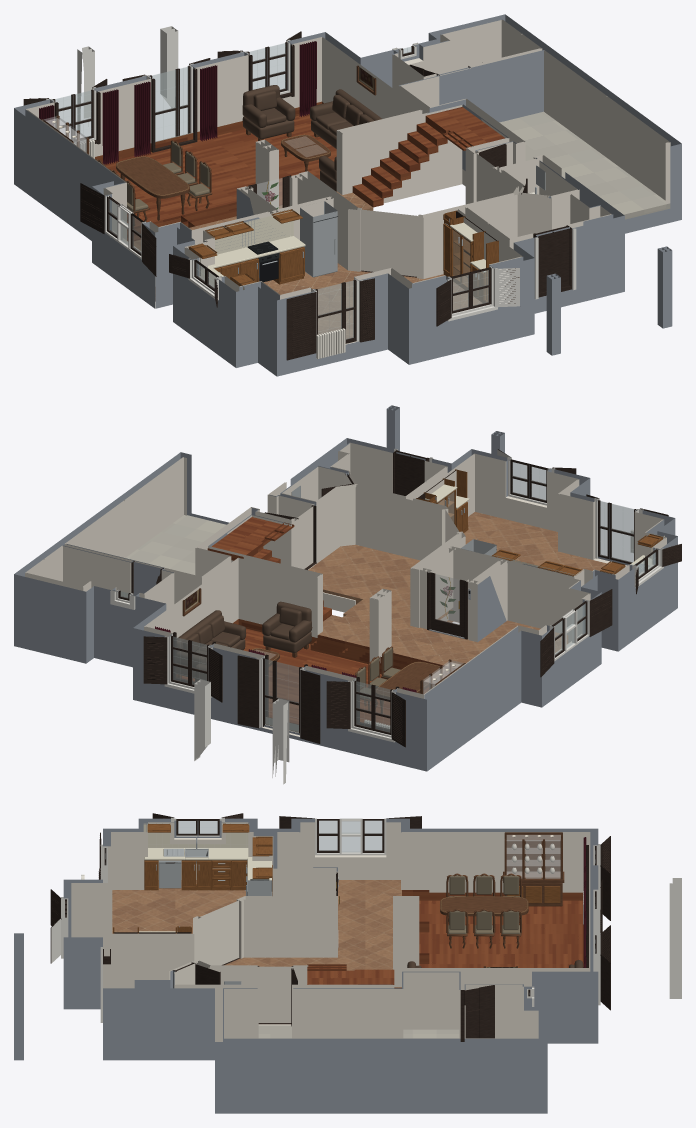
The model's file is floor-1.glb.
3 renders of one model, top to bottom at view 1: azimuth 30°, elevation 25°; view 2: azimuth 150°, elevation 25°; view 3: azimuth 270°, elevation 25°, orthographic. The views are drawn at different scales.
Parts seen in each view (by area): view 1: fixed | interior, fixed | stucco, fixed | wood_dark, fixed | wood_floor, fixed | glass, fixed | white_trim, fixed | stone_tile, fixed | wood_honey, fixed | burgundy_velvet, furniture | leather_brown, furniture | antique_wood, fixed | terra_floor (+6 smaller); view 2: fixed | interior, fixed | stucco, fixed | wood_dark, fixed | terra_floor, fixed | glass, fixed | wood_floor, fixed | white_trim, furniture | leather_brown, fixed | stone_tile, furniture | antique_wood, fixed | wood_honey, fixed | cabinet_glass (+3 smaller); view 3: fixed | interior, fixed | stucco, fixed | wood_floor, fixed | terra_floor, fixed | wood_dark, furniture | antique_wood, fixed | white_trim, fixed | wood_honey, fixed | Ivory kitchen countertop, furniture | chair_tapestry, fixed | glass, furniture | cabinet_glass (+3 smaller).
Part boxes in pixels (<box>): fixed | interior: <box>26,19,670,344</box>; fixed | stucco: <box>14,14,681,376</box>; fixed | wood_dark: <box>23,31,571,360</box>; fixed | wood_floor: <box>95,101,504,240</box>; fixed | glass: <box>55,43,488,339</box>; fixed | white_trim: <box>46,26,576,341</box>; fixed | stone_tile: <box>155,111,670,219</box>; fixed | wood_honey: <box>188,209,498,302</box>; fixed | burgundy_velvet: <box>39,41,316,164</box>; furniture | leather_brown: <box>242,85,381,191</box>; furniture | antique_wood: <box>41,115,330,225</box>; fixed | terra_floor: <box>134,191,481,338</box>; fixed | interior: <box>25,442,666,736</box>; fixed | stucco: <box>14,405,677,771</box>; fixed | wood_dark: <box>118,449,681,747</box>; fixed | terra_floor: <box>308,512,608,667</box>; fixed | glass: <box>120,462,655,732</box>; fixed | wood_floor: <box>182,517,455,725</box>; fixed | white_trim: <box>110,448,663,784</box>; furniture | leather_brown: <box>177,601,312,681</box>; fixed | stone_tile: <box>125,515,298,732</box>; furniture | antique_wood: <box>177,643,465,713</box>; fixed | wood_honey: <box>416,469,662,576</box>; fixed | cabinet_glass: <box>435,574,459,624</box>; fixed | interior: <box>71,822,590,1041</box>; fixed | stucco: <box>14,818,598,1113</box>; fixed | wood_floor: <box>307,890,583,988</box>; fixed | terra_floor: <box>112,880,401,987</box>; fixed | wood_dark: <box>50,813,610,1041</box>; furniture | antique_wood: <box>440,832,564,948</box>; fixed | white_trim: <box>51,817,681,1022</box>; fixed | wood_honey: <box>113,823,272,933</box>; fixed | Ivory kitchen countertop: <box>139,823,271,932</box>; furniture | chair_tapestry: <box>448,875,520,934</box>; fixed | glass: <box>105,820,595,994</box>; furniture | cabinet_glass: <box>506,835,560,878</box>.
Size of the model in its own units: 13.67 by 2.2 by 16.87.
Materials: 28 (28 with a texture image).
